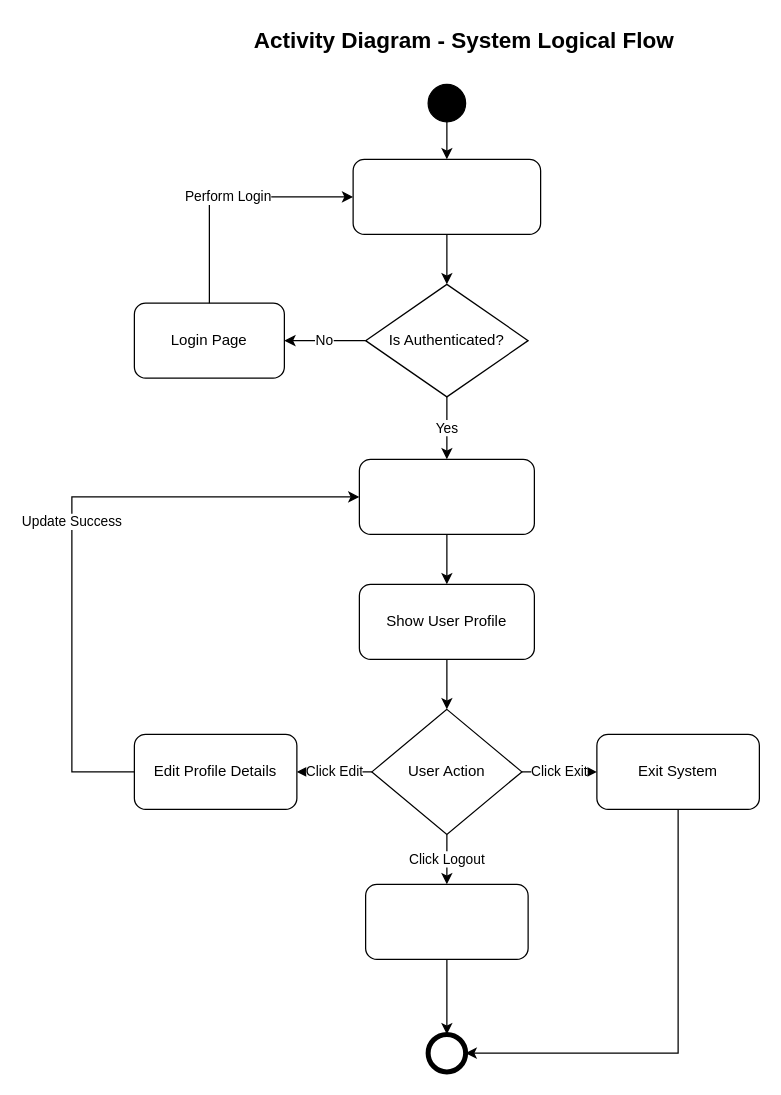
Image size: 781x1095. Some labels were removed from this diagram. The centre of each missing label's shape, as x and y in pixels:
"Fetch Data from DB" belongs at point 446,496.
"Login Check" belongs at point 446,196.
"Logout" belongs at point 446,921.
